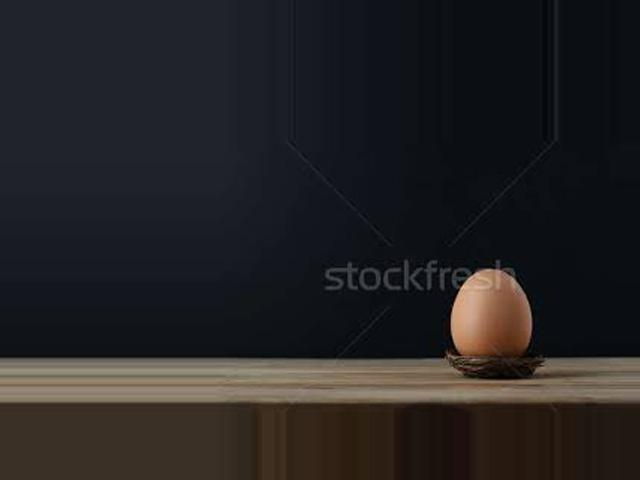egg: (452, 269, 533, 358)
